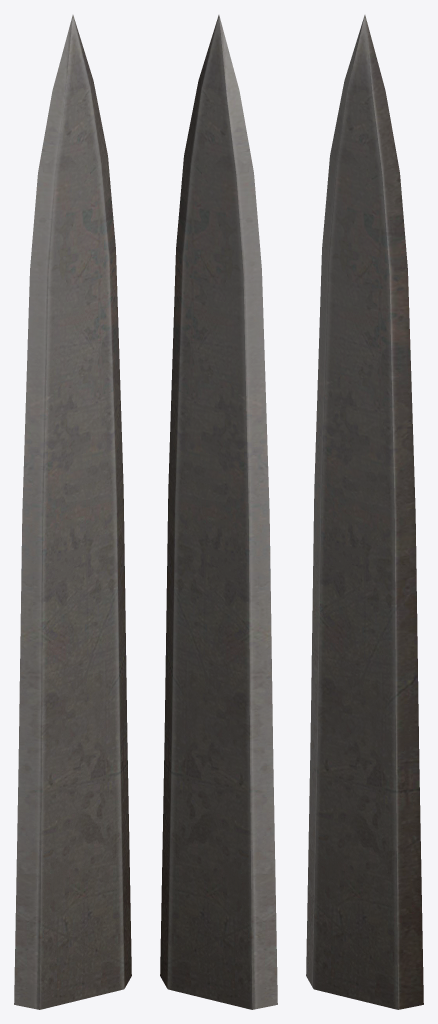
The model's file is Blade.FBX.
The picture shows the model from 3 angles, left to right: view 1: azimuth 30°, elevation 25°; view 2: azimuth 150°, elevation 25°; view 3: azimuth 330°, elevation 25°; orthographic projection.
Parts seen in each view (by area): view 1: Blade; view 2: Blade; view 3: Blade.
Boxes of the visible parts, x1,y1,x2,y2 form: Blade: [14, 15, 131, 1009]; Blade: [160, 15, 277, 1009]; Blade: [306, 15, 423, 1009].
Bounding box in the file's own units: 34.45 × 274 × 9.17.
